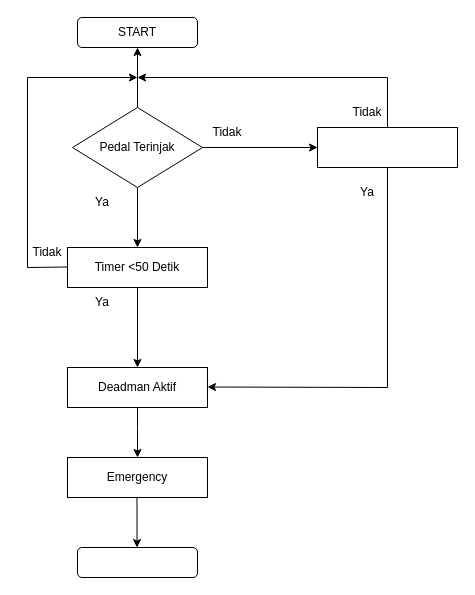
The diagram is 475 pixels wide and 595 high, and some of its shapes have lost their labels. The centre of each missing label's shape, as x and y in pixels:
Selesai: the point at 137,562
Timer <4 Detik: the point at 387,147
